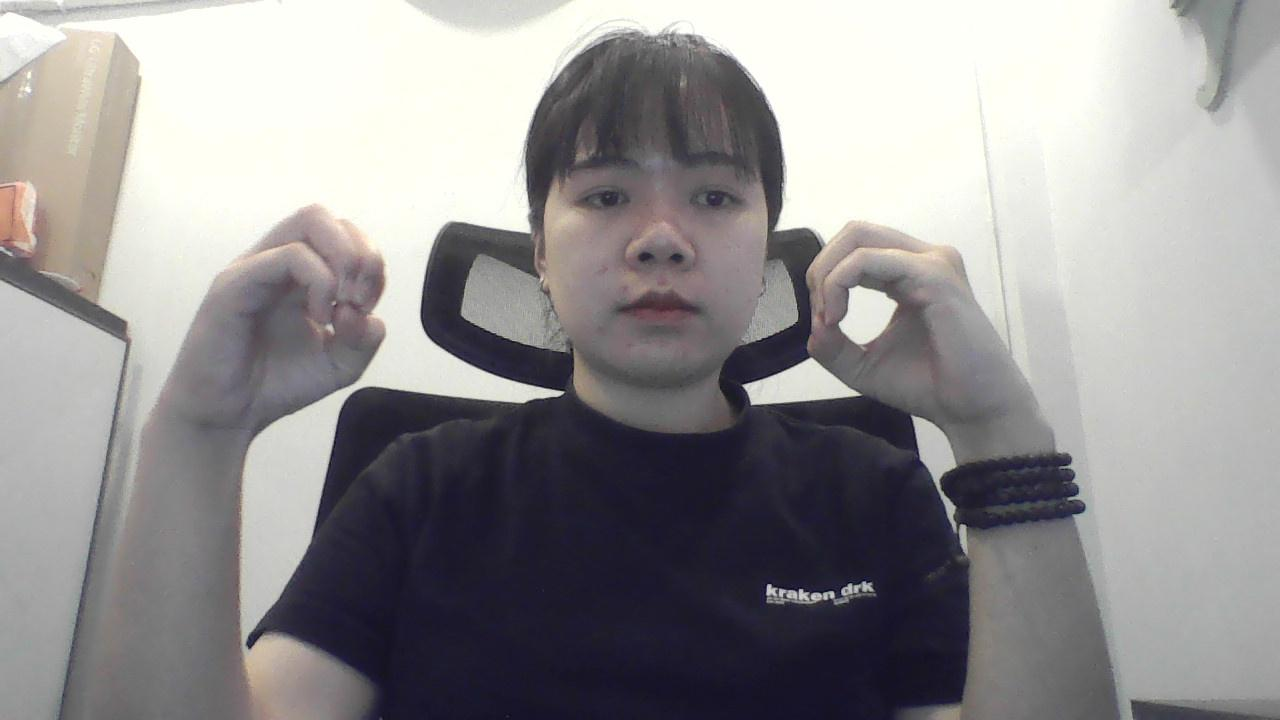O: (109, 175, 417, 461), (795, 200, 1022, 440)
